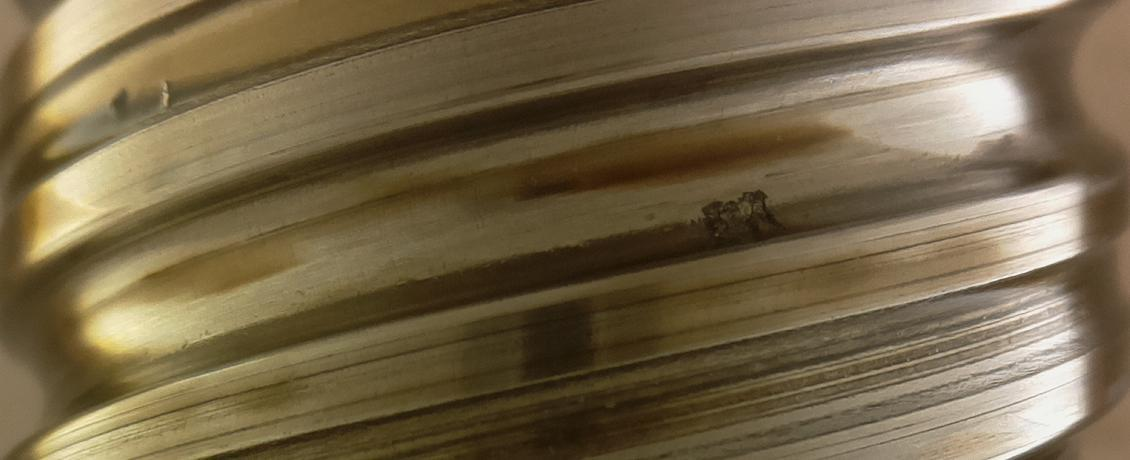pitting: (698, 189, 786, 245)
